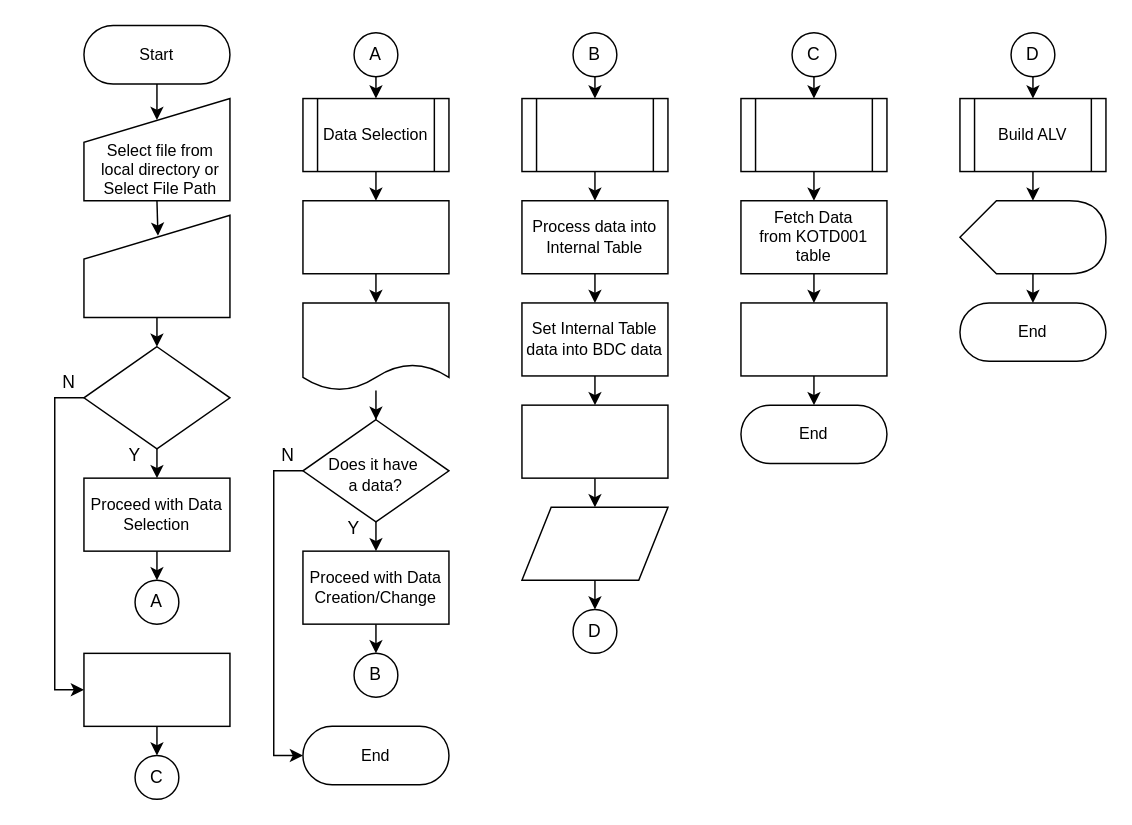
Image size: 1132x825. Some labels were removed from this diagram. Here are the shapes that lost their labels. From the top down, the box of each, then its label:
(520, 97, 668, 172): Process Data
(739, 97, 887, 172): Begin Download
(301, 199, 449, 274): Upload file
(958, 199, 1106, 274): Display Output
(82, 214, 230, 318): Select Execution Options (Upload, Download)
(301, 301, 449, 391): Material Determination Sheet
(739, 301, 887, 376): Download List Records
(82, 345, 230, 449): Upload = 'X'
(520, 404, 668, 478): Call transaction using BDC data
(520, 506, 668, 580): Condition Record Save
(82, 652, 230, 726): Proceed with Download
